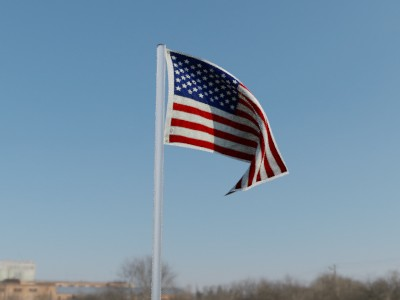American Flag: (165, 49, 291, 197)
